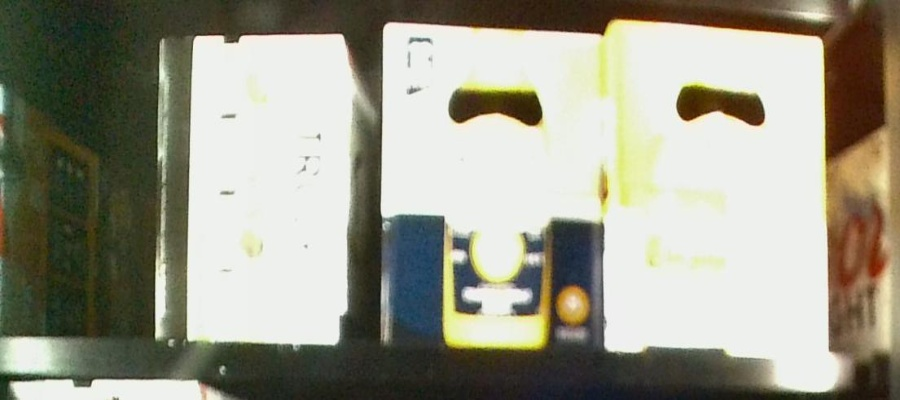bottle: (605, 18, 827, 347), (383, 23, 606, 347), (156, 29, 371, 353)
